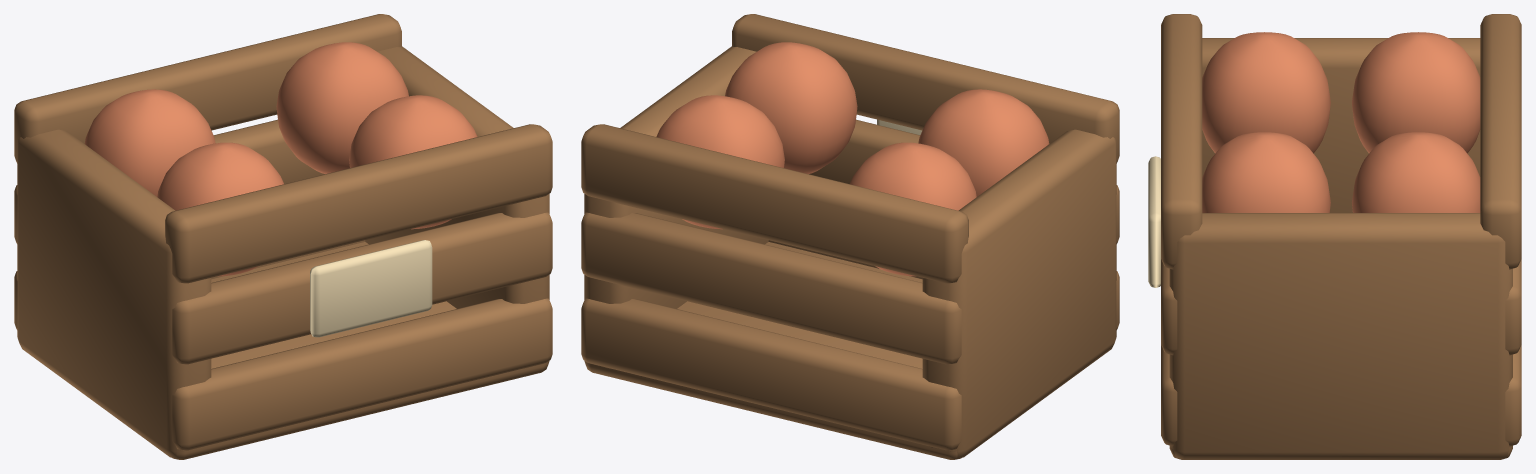
File: goods_crate.glb
3 renders of one model, left to right at view 1: azimuth 30°, elevation 25°; view 2: azimuth 150°, elevation 25°; view 3: azimuth 270°, elevation 25°, orthographic. The views are drawn at different scales.
Parts seen in each view (by area): view 1: goods_crate_crafted_mesh; view 2: goods_crate_crafted_mesh; view 3: goods_crate_crafted_mesh.
Boxes of the visible parts, x1,y1,x2,y2 form: goods_crate_crafted_mesh: (14, 14, 552, 459); goods_crate_crafted_mesh: (581, 14, 1119, 459); goods_crate_crafted_mesh: (1148, 14, 1521, 459).
Size of the model in its own units: 0.79 by 0.5244 by 0.6315.
